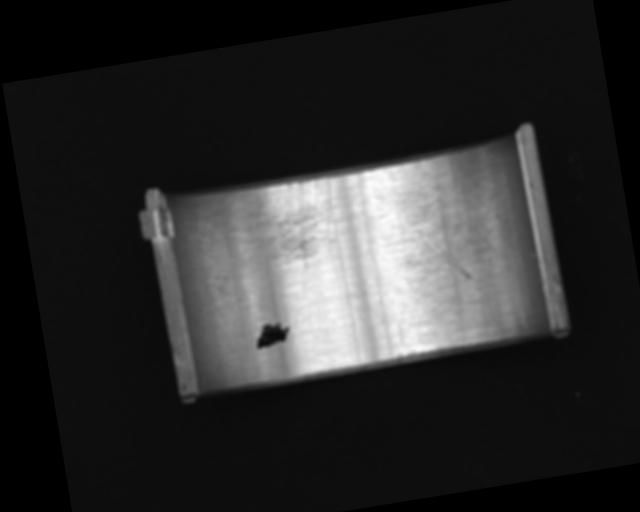blot: (252, 319, 294, 350)
nick: (420, 222, 474, 286)
scratch: (210, 172, 343, 282)
